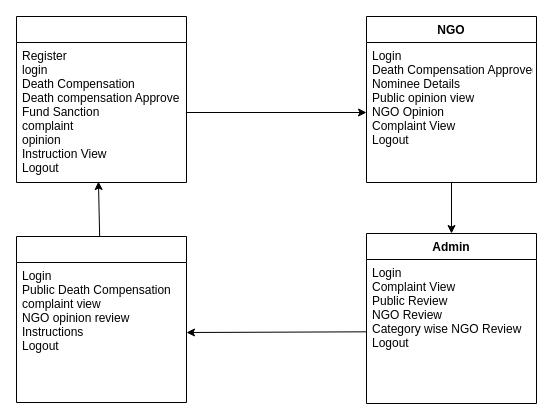
Some shapes in this 555 by 420 pixel diagram are drawn without their labels. The shapes that lost their labels are listed below. From the top down, each one's box as (x1, y1, x2, y2) in pixels, then its label:
(16, 16, 186, 182): User
(16, 236, 186, 402): Nodal Authority
